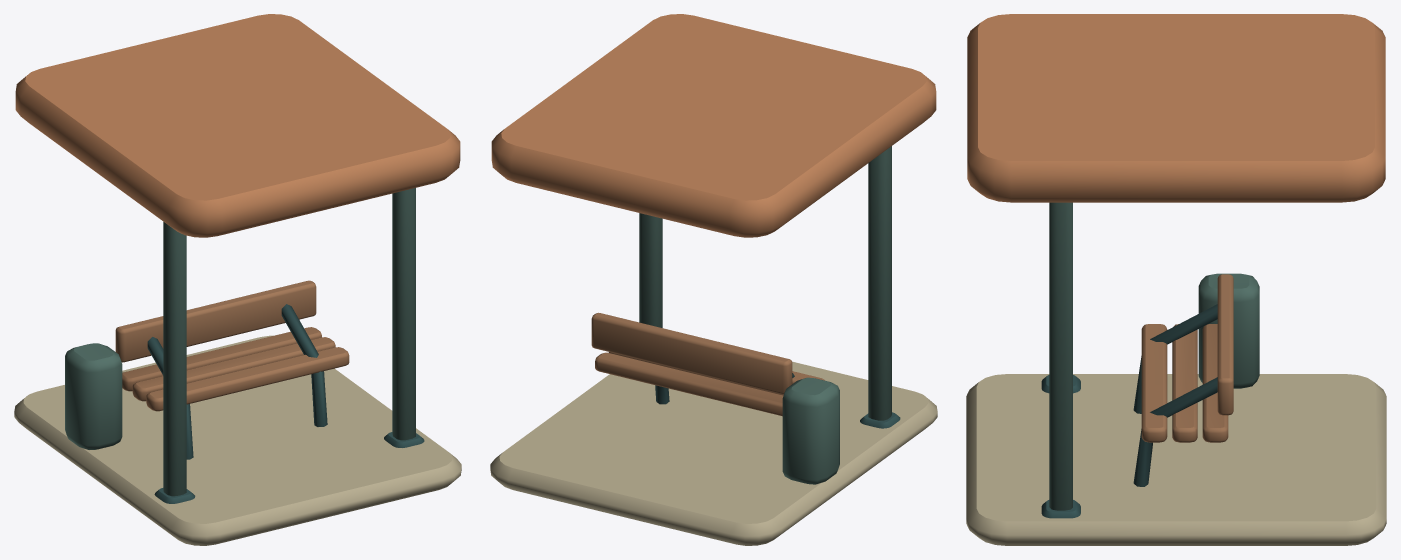
Rendered from wilderness_motel_2.glb.
3 views of the same model, side by side, from view 1: azimuth 30°, elevation 25°; view 2: azimuth 150°, elevation 25°; view 3: azimuth 270°, elevation 25° (orthographic). The views are drawn at different scales.
Parts seen in each view (by area): view 1: WildernessMotel2; view 2: WildernessMotel2; view 3: WildernessMotel2.
Boxes of the visible parts, x1,y1,x2,y2 form: WildernessMotel2: (14, 14, 461, 545); WildernessMotel2: (490, 14, 937, 545); WildernessMotel2: (966, 14, 1386, 545).
Bounding box in the file's own units: 2.18 × 2.51 × 2.48.
